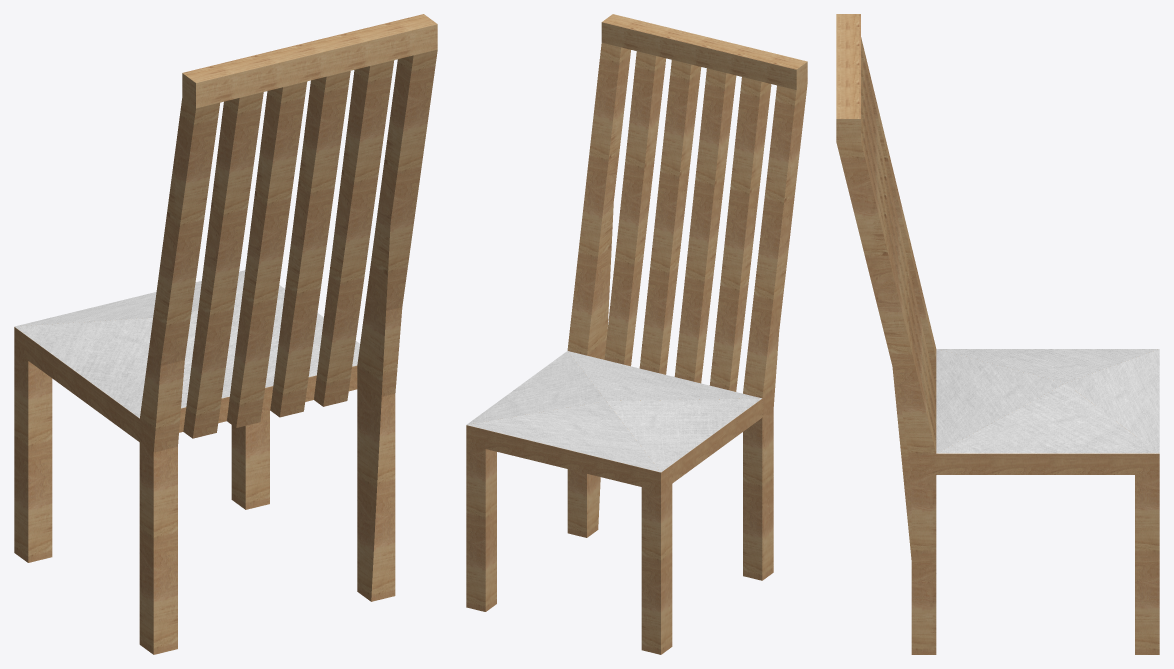
File: stol.glb
3 renders of one model, left to right at view 1: azimuth 30°, elevation 25°; view 2: azimuth 150°, elevation 25°; view 3: azimuth 270°, elevation 25°, orthographic. The views are drawn at different scales.
Visible parts, largest first — view 1: node-1, Merged batch 1; view 2: node-1, Merged batch 1; view 3: node-1, Merged batch 1.
Boxes of the visible parts, x1,y1,x2,y2 form: node-1: [14, 14, 437, 654]; Merged batch 1: [14, 270, 359, 418]; node-1: [466, 14, 807, 654]; Merged batch 1: [466, 351, 761, 472]; node-1: [836, 14, 1159, 654]; Merged batch 1: [936, 349, 1159, 453].
Size of the model in its own units: 2.5 by 5.96 by 3.26.
2 materials, 2 textured.
